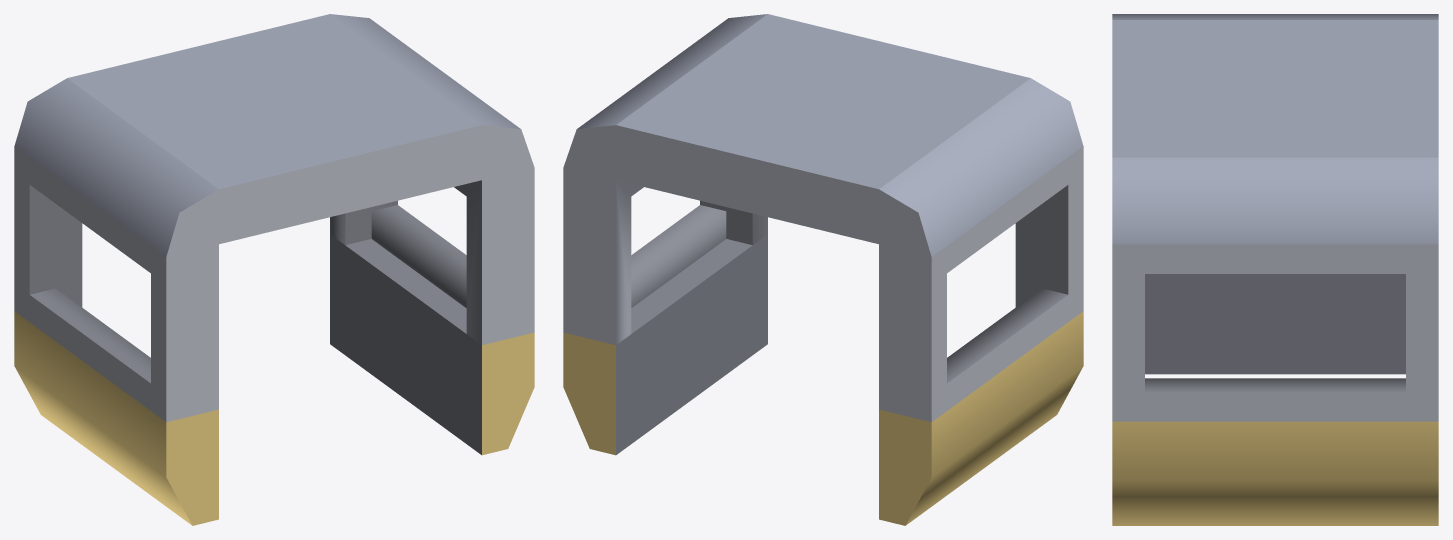
File: cover-stripe-window.fbx
The picture shows the model from 3 angles, left to right: view 1: azimuth 30°, elevation 25°; view 2: azimuth 150°, elevation 25°; view 3: azimuth 270°, elevation 25°; orthographic projection. The views are drawn at different scales.
Parts seen in each view (by area): view 1: cover-stripe-window; view 2: cover-stripe-window; view 3: cover-stripe-window.
Part boxes in pixels (x1,y1,x2,y2): cover-stripe-window: [14, 14, 534, 525]; cover-stripe-window: [563, 14, 1083, 525]; cover-stripe-window: [1112, 14, 1438, 525].
Size of the model in its own units: 140 by 120 by 100.
